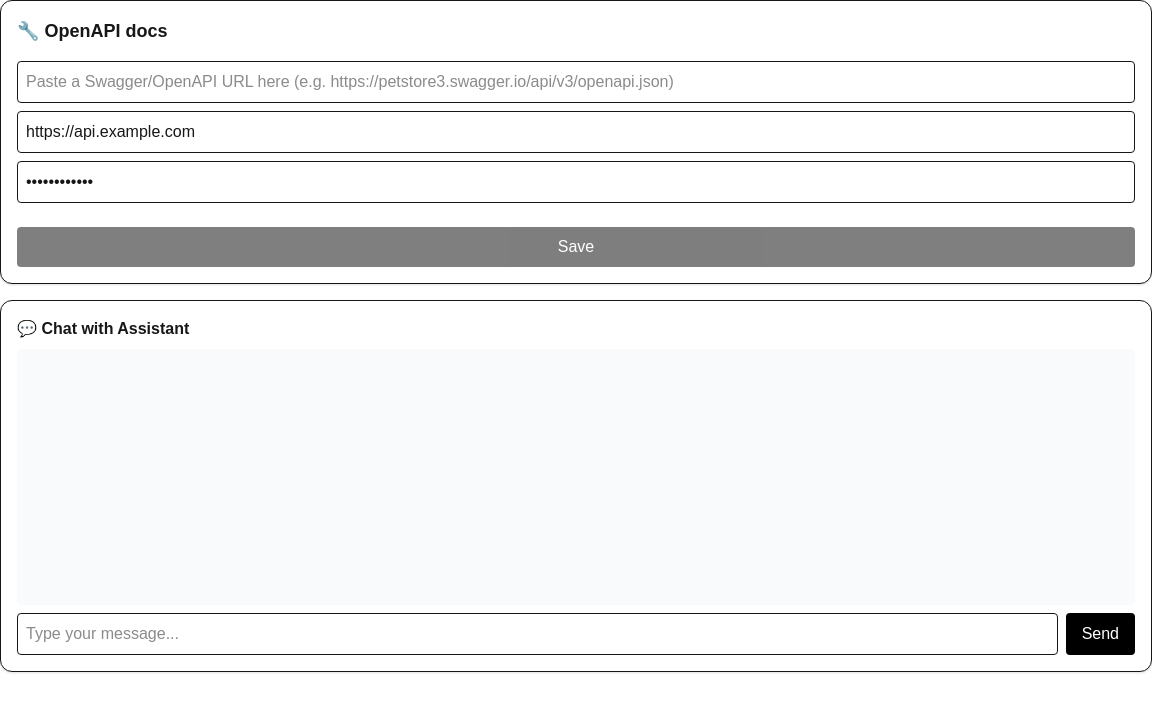
ChatWindow › handles plain text message responses
(page scrolled)
Type and send a message
Type "Cause message" into the field with placeholder "Type your message..." at (537, 634), box [17,613,1058,655]
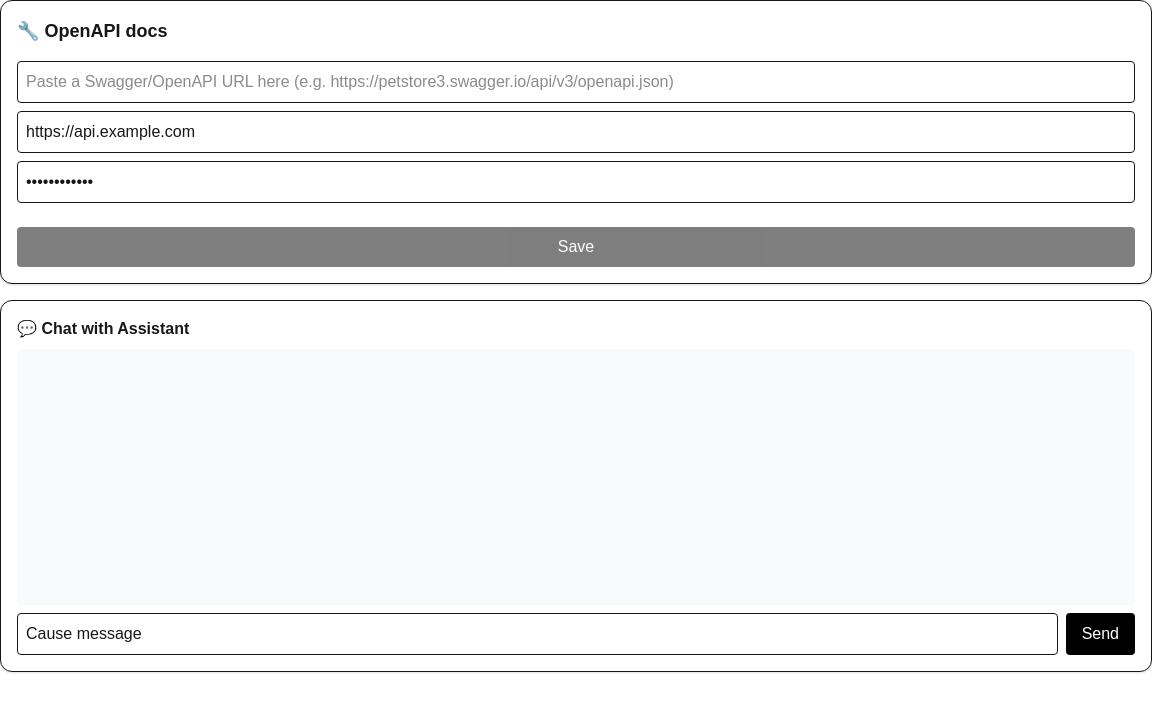
Click the button named "Send message" at (1100, 634), box [1066,613,1135,655]
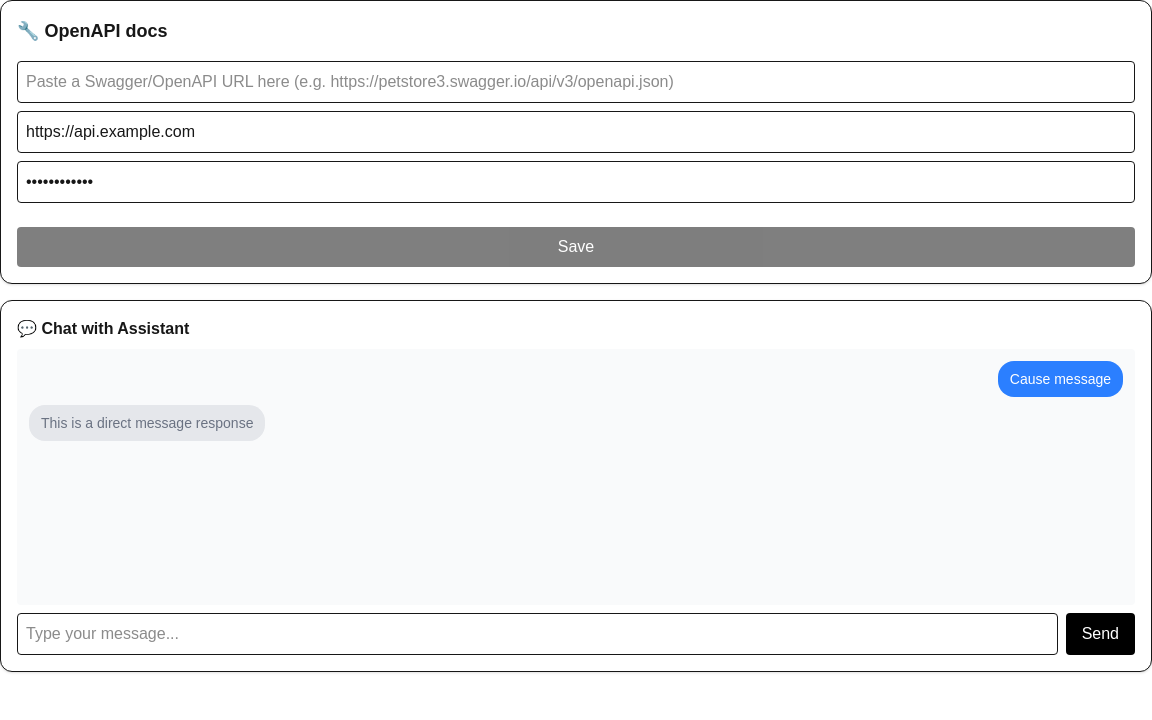
Now the text "This is a direct message response" is shown, box [29,405,265,441]
